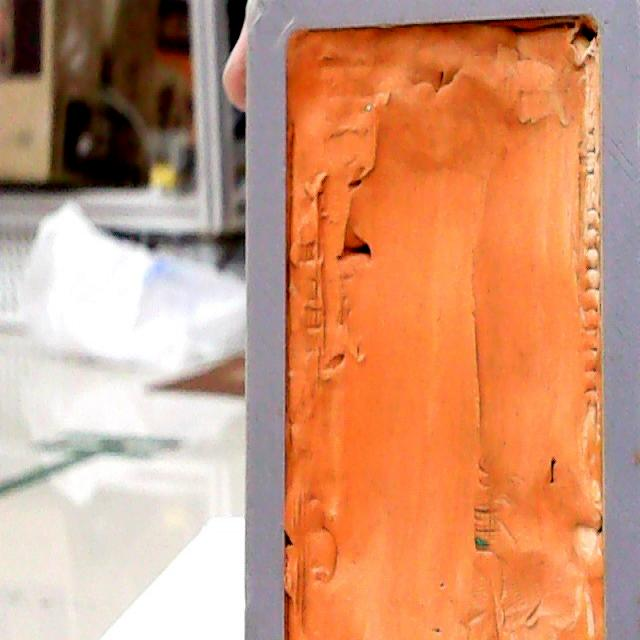block: (236, 2, 636, 631)
